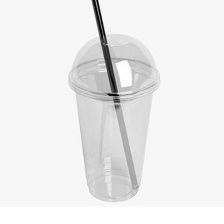drinking_straw: (88, 0, 141, 189)
glass: (59, 30, 161, 204)
